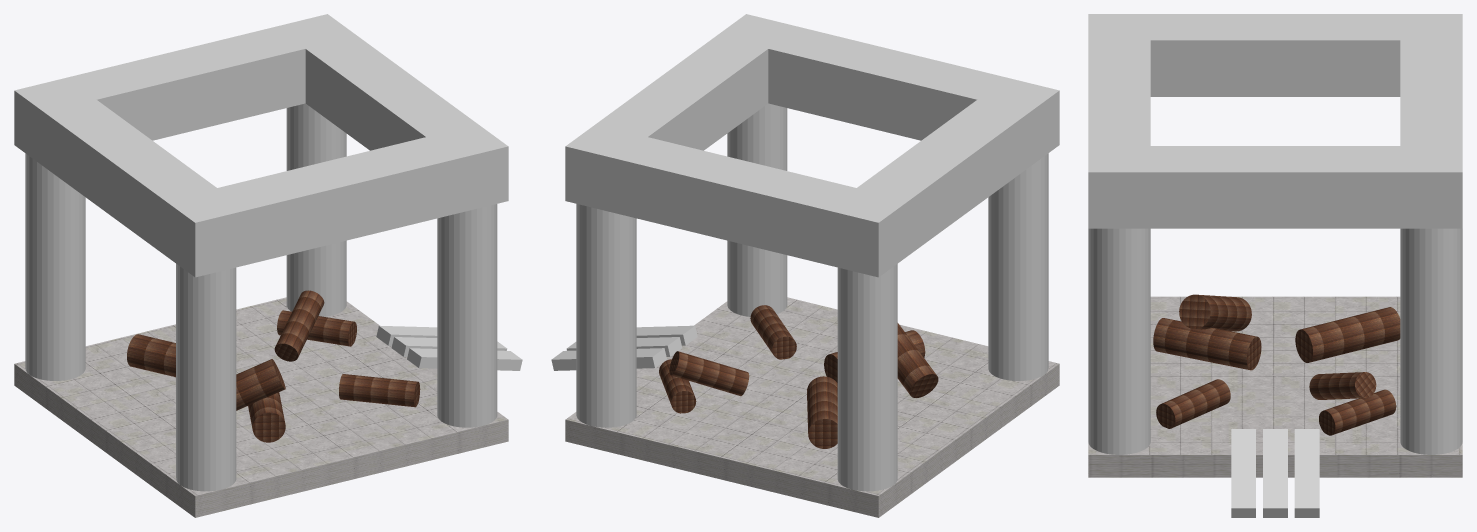
File: woodFeild.fbx
3 views of the same model, side by side, from view 1: azimuth 30°, elevation 25°; view 2: azimuth 150°, elevation 25°; view 3: azimuth 270°, elevation 25° (orthographic). The views are drawn at different scales.
Visible parts, largest first — view 1: 圓柱體.008, 圓柱體.015, 圓柱體.012, 圓柱體.014, 圓柱體.013, 圓柱體.010, 圓柱體.011, 圓柱體.009, 圓柱體.007, 圓柱體.002, 圓柱體.006, 圓柱體.005 (+6 smaller); view 2: 圓柱體.008, 圓柱體.014, 圓柱體.012, 圓柱體.015, 圓柱體.009, 圓柱體.007, 圓柱體.010, 圓柱體.013, 圓柱體.011, 圓柱體.004, 圓柱體.006, 圓柱體.005 (+6 smaller); view 3: 圓柱體.008, 圓柱體.013, 圓柱體.012, 圓柱體.007, 圓柱體.011, 圓柱體.014, 圓柱體.015, 圓柱體.004, 圓柱體.003, 立方體.001, 圓柱體.005, 立方體.005 (+4 smaller).
Boxes of the visible parts, <box> form: 圓柱體.008: <box>14,297,508,517</box>; 圓柱體.015: <box>165,124,508,277</box>; 圓柱體.012: <box>14,79,246,276</box>; 圓柱體.014: <box>14,14,355,140</box>; 圓柱體.013: <box>293,14,508,213</box>; 圓柱體.010: <box>176,264,236,491</box>; 圓柱體.011: <box>437,204,497,427</box>; 圓柱體.009: <box>25,153,85,380</box>; 圓柱體.007: <box>286,103,346,316</box>; 圓柱體.002: <box>339,374,420,407</box>; 圓柱體.006: <box>274,290,324,361</box>; 圓柱體.005: <box>236,359,285,410</box>; 圓柱體.008: <box>565,297,1059,517</box>; 圓柱體.014: <box>565,124,908,276</box>; 圓柱體.012: <box>826,77,1059,277</box>; 圓柱體.015: <box>716,14,1059,166</box>; 圓柱體.009: <box>837,264,897,491</box>; 圓柱體.007: <box>576,204,636,427</box>; 圓柱體.010: <box>988,153,1048,380</box>; 圓柱體.013: <box>565,21,797,154</box>; 圓柱體.011: <box>727,103,787,316</box>; 圓柱體.004: <box>807,376,837,448</box>; 圓柱體.006: <box>669,351,749,396</box>; 圓柱體.005: <box>897,323,938,397</box>; 圓柱體.008: <box>1088,296,1462,477</box>; 圓柱體.013: <box>1088,146,1462,228</box>; 圓柱體.012: <box>1088,14,1462,96</box>; 圓柱體.007: <box>1400,228,1462,454</box>; 圓柱體.011: <box>1088,228,1150,454</box>; 圓柱體.014: <box>1400,14,1462,228</box>; 圓柱體.015: <box>1088,40,1150,227</box>; 圓柱體.004: <box>1295,307,1400,362</box>; 圓柱體.003: <box>1153,318,1261,370</box>; 立方體.001: <box>1294,429,1319,517</box>; 圓柱體.005: <box>1179,294,1251,331</box>; 立方體.005: <box>1263,429,1287,517</box>.
Size of the model in its own units: 759 by 540 by 600.
Materials: 3 (2 with a texture image).
